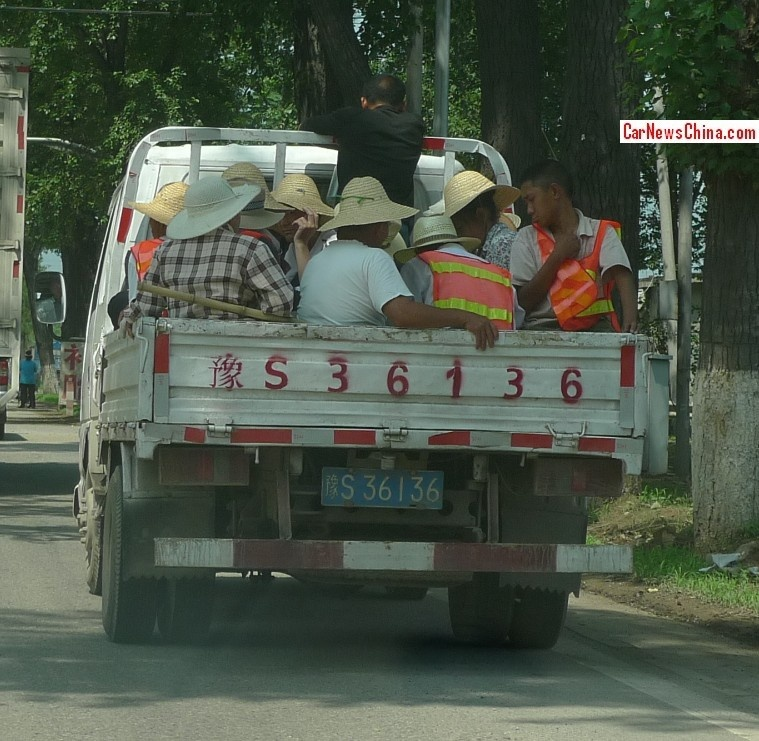person with partial safety: (506, 167, 642, 337), (401, 218, 528, 331)
person without safety: (151, 183, 287, 325), (299, 183, 413, 332), (319, 75, 427, 221), (268, 179, 333, 276)
safety vest: (533, 218, 626, 335), (416, 248, 517, 334)
